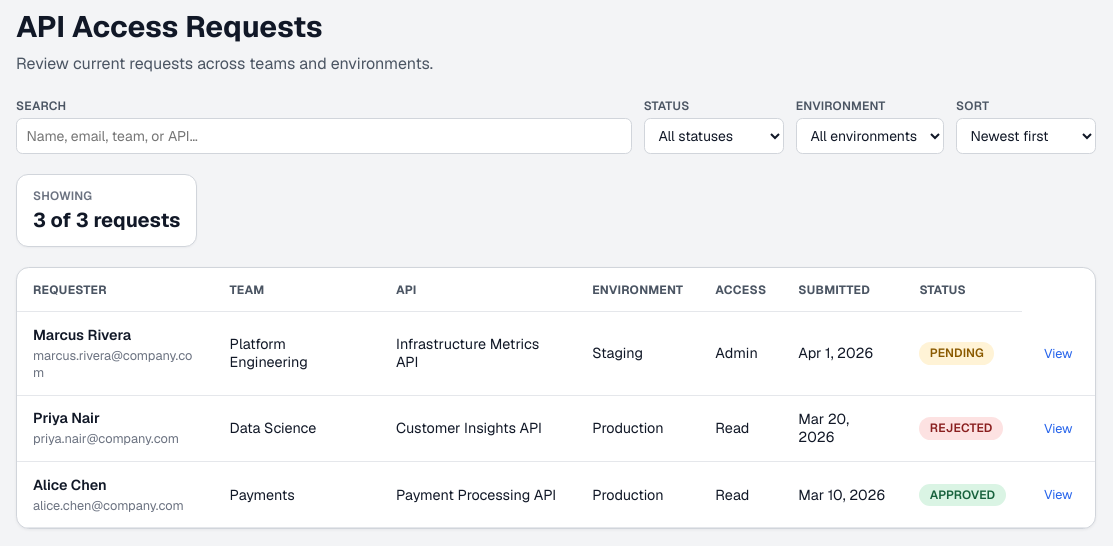
Test: RequestsDashboard search and filtering › filters the list by environment
Select "Staging" in the dropdown labelled "Environment": (870, 136) [796, 118, 944, 154]
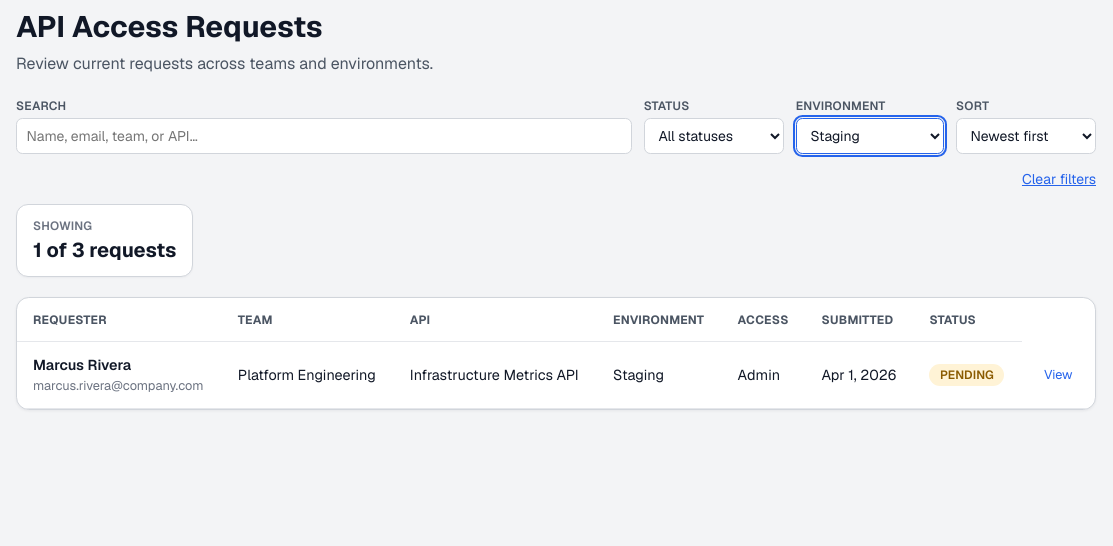
Expected: the text "Marcus Rivera" is shown, [33, 356, 131, 374]
Expected: the text "Alice Chen" is gone
Expected: the text "Priya Nair" is gone
